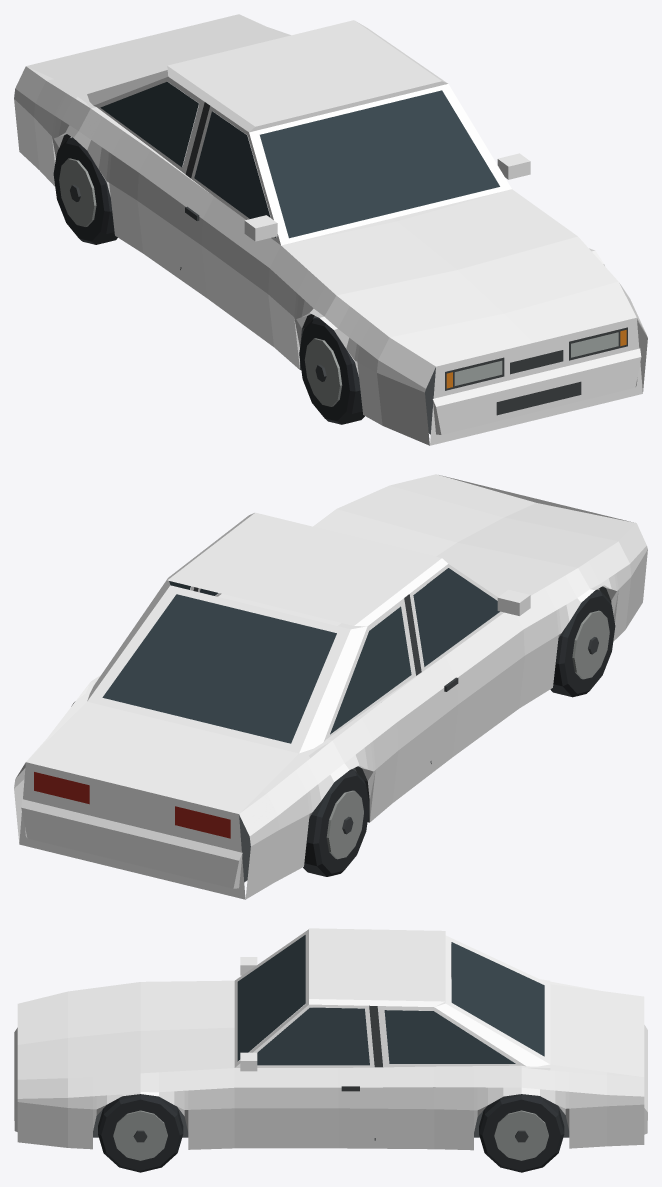
The model's file is mizuchi_suzaku.glb.
3 views of the same model, one above another, from view 1: azimuth 30°, elevation 25°; view 2: azimuth 150°, elevation 25°; view 3: azimuth 270°, elevation 25° (orthographic). The views are drawn at different scales.
Visible parts, largest first — view 1: mizuchi_suzaku; view 2: mizuchi_suzaku; view 3: mizuchi_suzaku.
Boxes of the visible parts, x1,y1,x2,y2 form: mizuchi_suzaku: (14, 14, 647, 445); mizuchi_suzaku: (14, 474, 647, 899); mizuchi_suzaku: (14, 928, 647, 1172).
Size of the model in its own units: 1.75 by 1.25 by 4.49.
8 materials, 1 textured.
